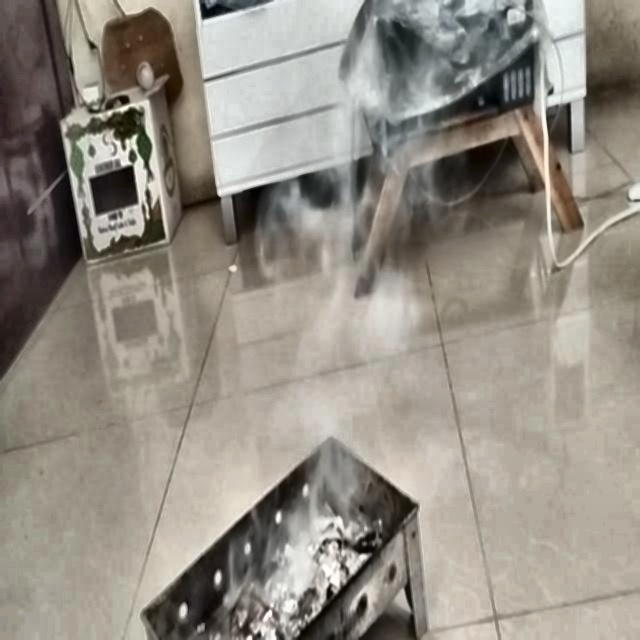smoke: (267, 117, 374, 620)
